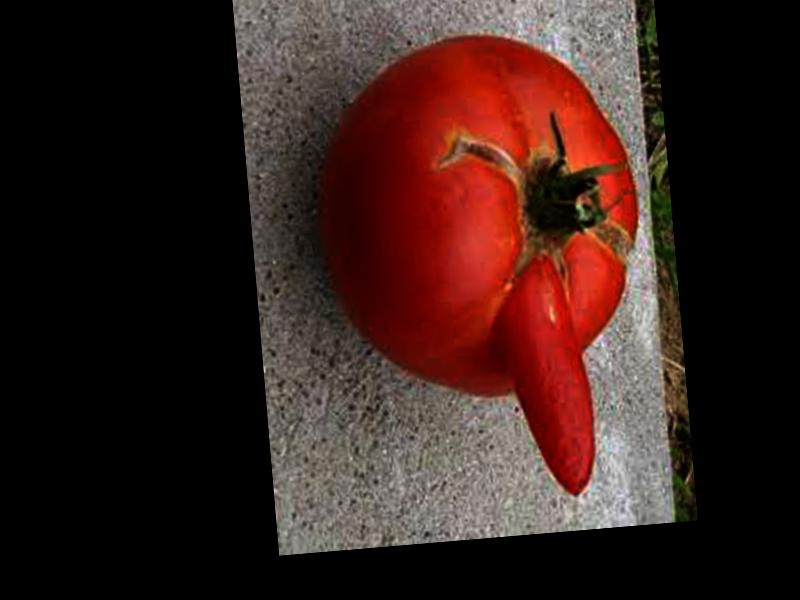Tomato: (315, 19, 653, 409)
